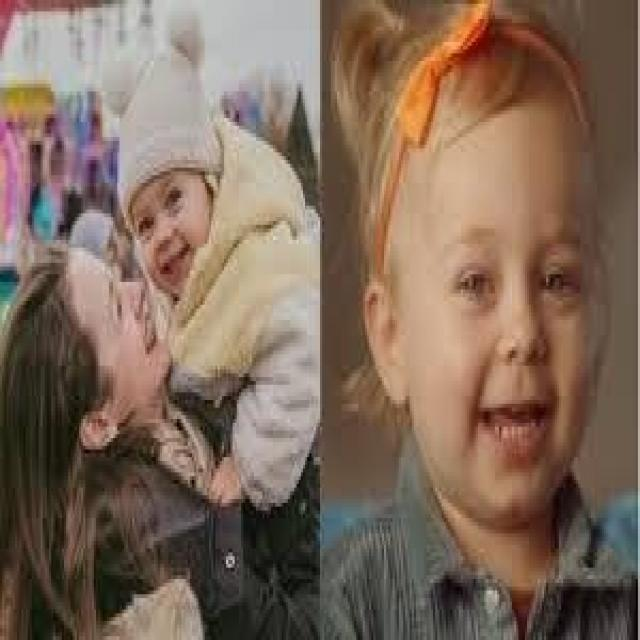person: (326, 12, 636, 632), (6, 175, 271, 636), (92, 34, 318, 572)
